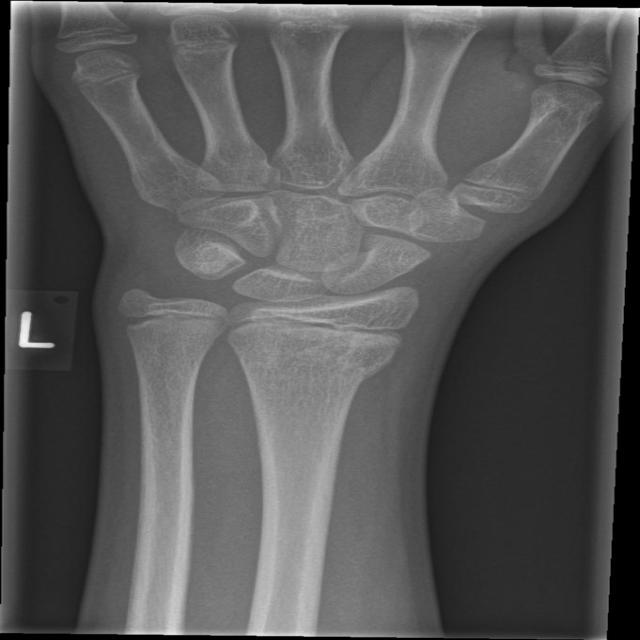fracture: (217, 296, 426, 357), (105, 297, 242, 339)
